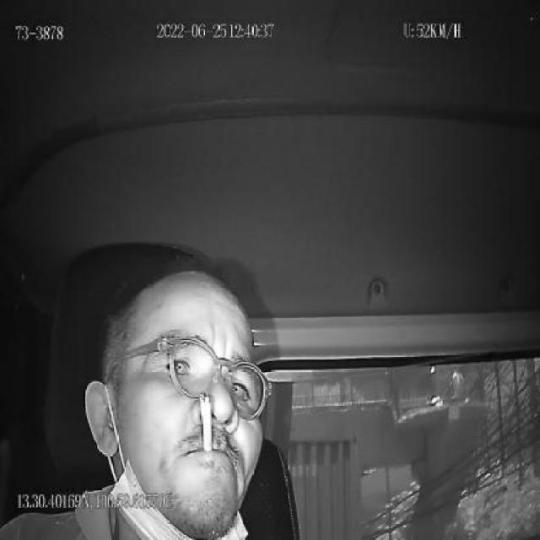smoking: (197, 389, 214, 455)
